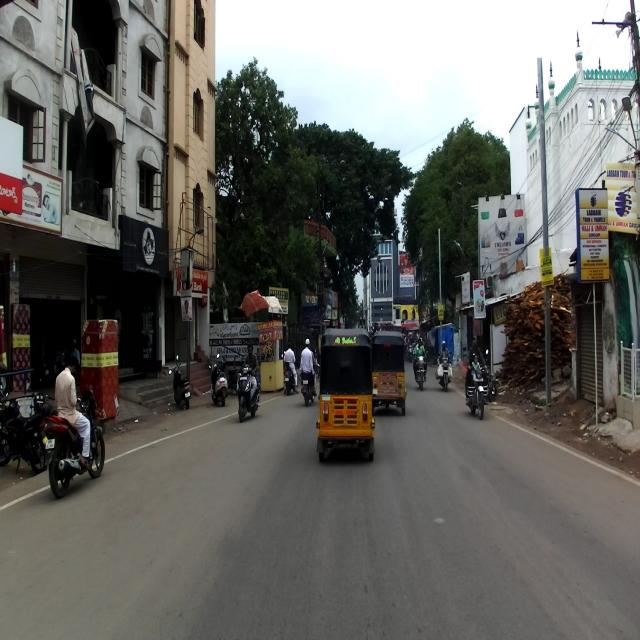autorickshaw: (315, 328, 376, 463)
motorcycle: (44, 389, 105, 497), (0, 386, 48, 472), (463, 358, 491, 420)
